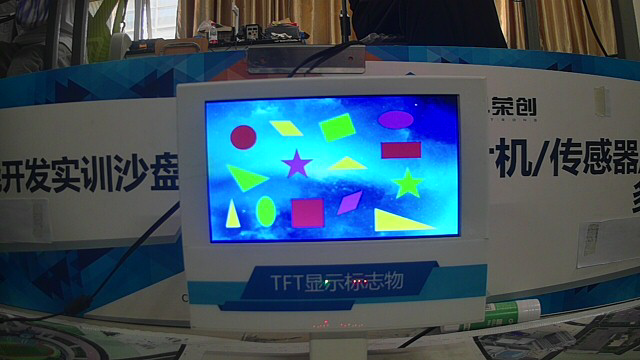graph: (202, 91, 464, 244)
